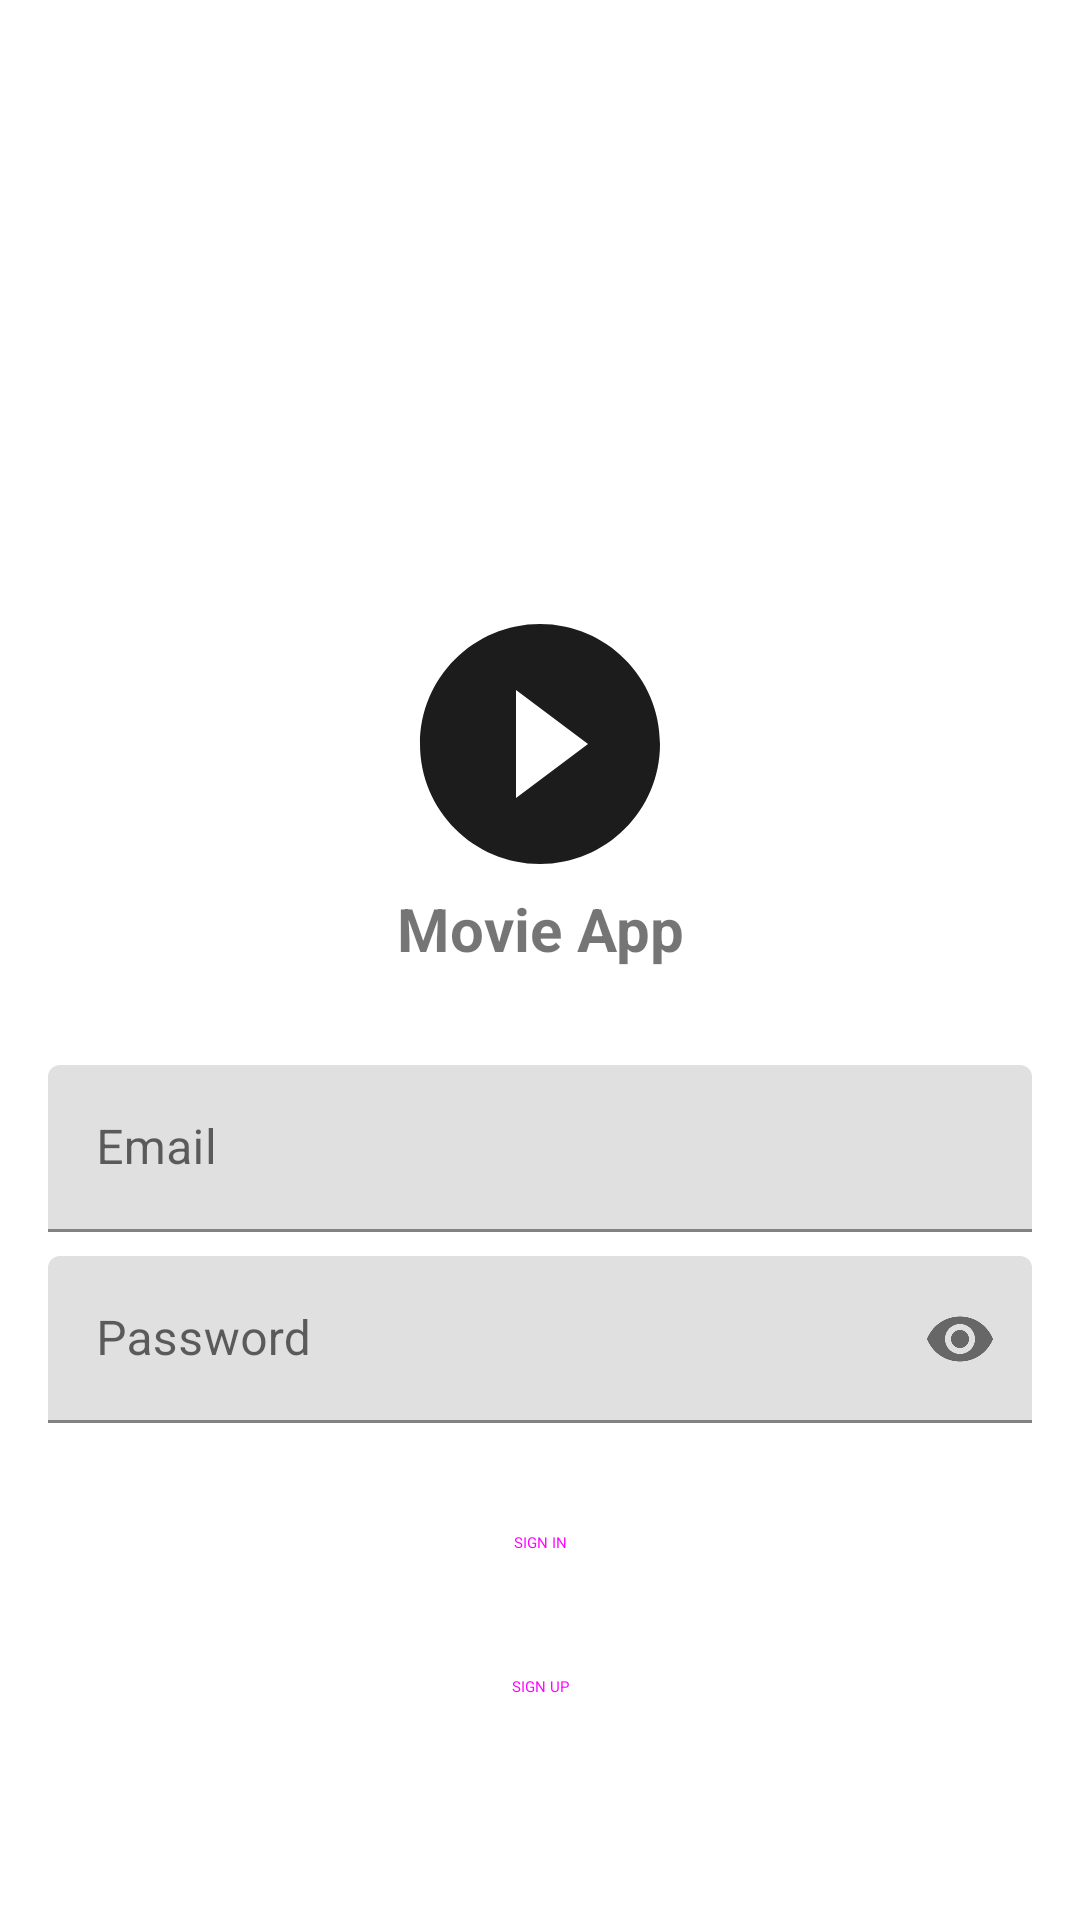

Where icons sit on this 1080px x 1920px app screen, as (x1, y1, x2, y2):
play: (420, 624, 660, 864)
